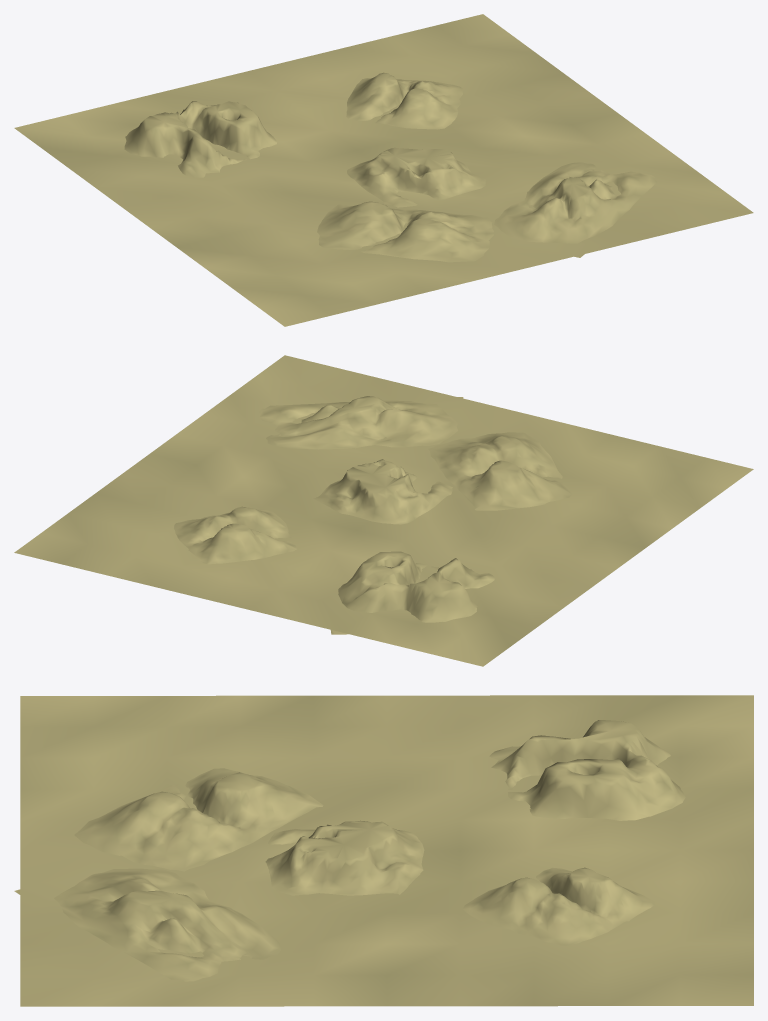
File: map33.obj
The picture shows the model from 3 angles, top to bottom: view 1: azimuth 30°, elevation 25°; view 2: azimuth 150°, elevation 25°; view 3: azimuth 270°, elevation 25°; orthographic projection. The views are drawn at different scales.
Size of the model in its own units: 64495 by 3430 by 65043.
